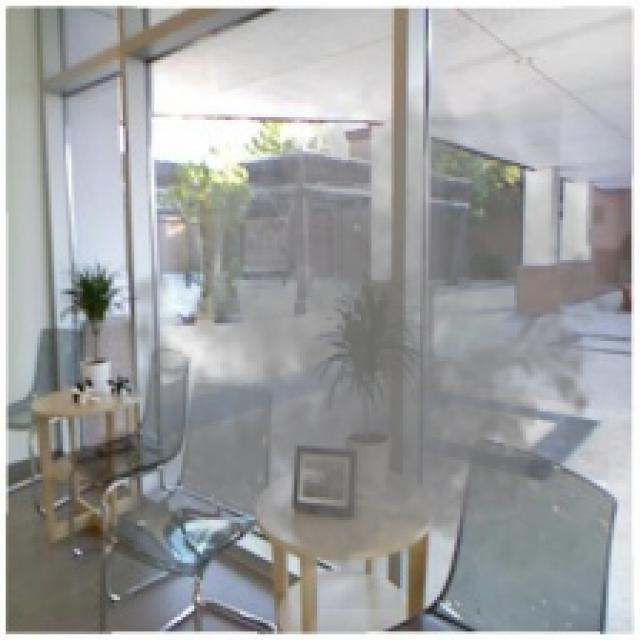smoke: (94, 63, 620, 608)
